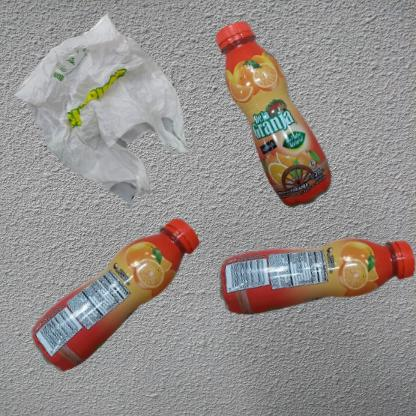bolsa: (10, 10, 194, 206)
botella: (10, 213, 278, 414), (213, 10, 349, 239), (213, 213, 416, 350)
